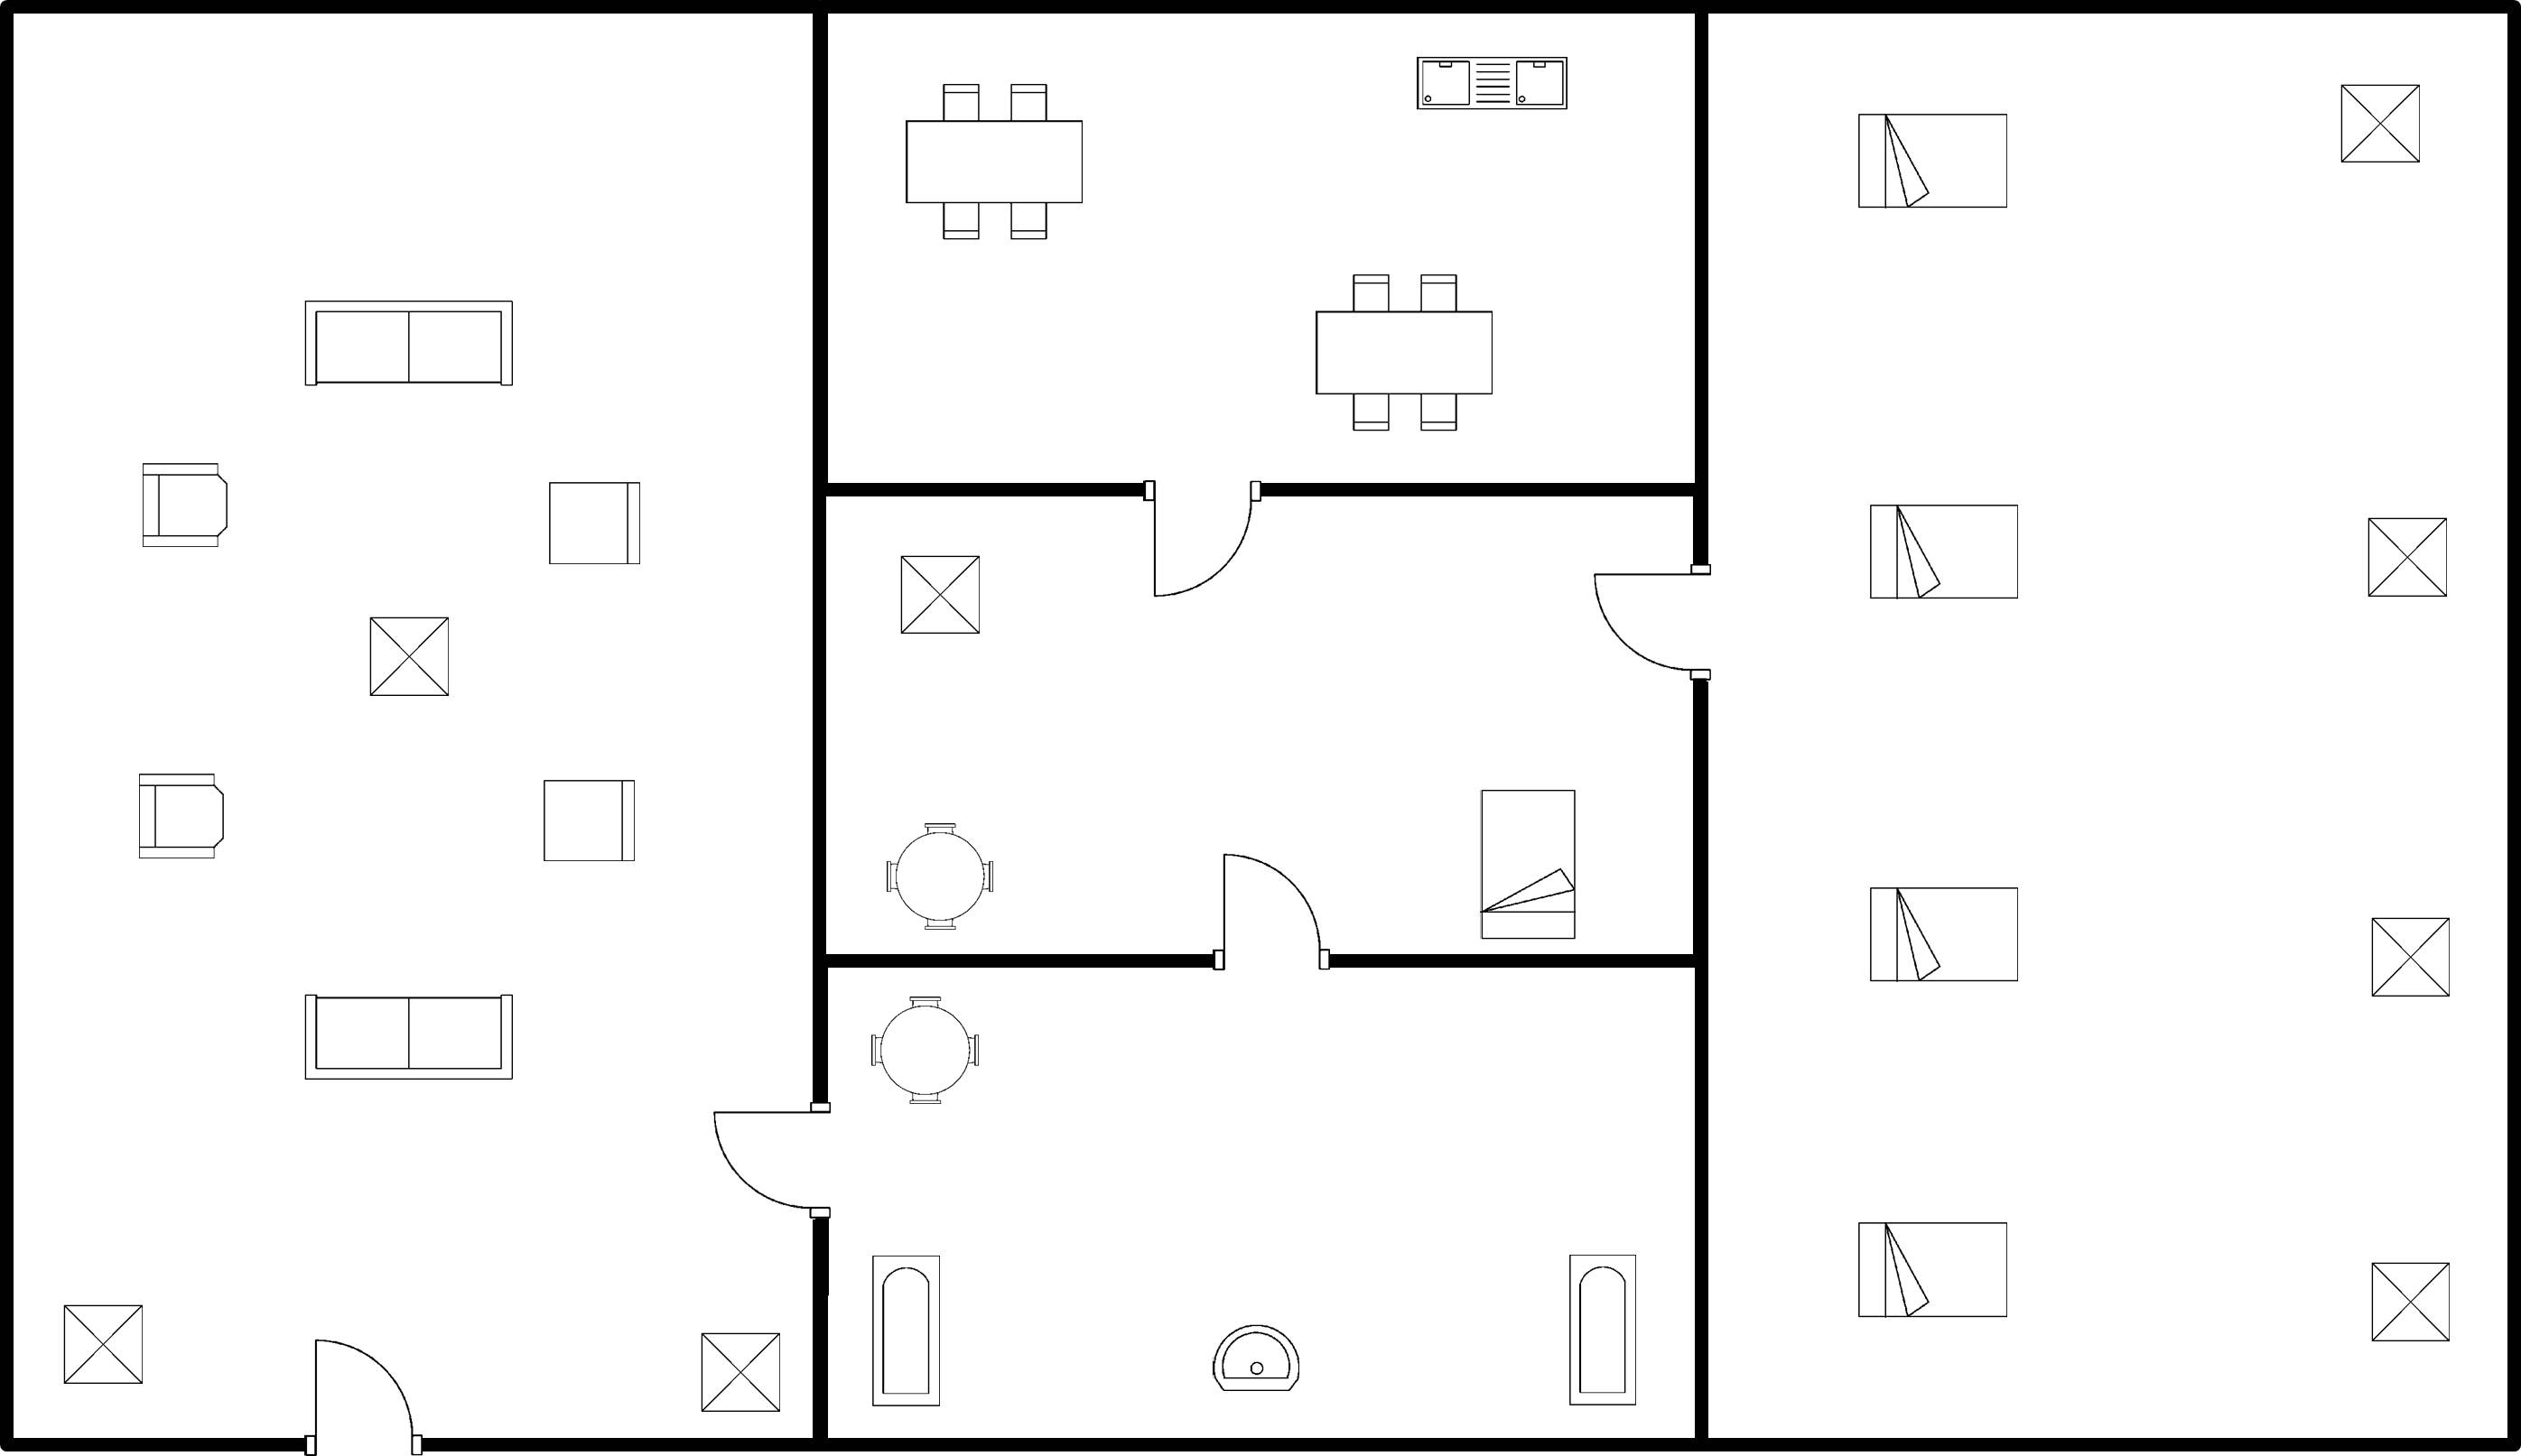armchair: (126, 446, 239, 558), (126, 760, 237, 872)
bed: (1856, 489, 2036, 610), (1845, 1210, 2020, 1334), (1464, 774, 1586, 951), (1850, 99, 2020, 222), (1856, 879, 2029, 997)
coffee_table: (355, 601, 465, 713), (886, 543, 998, 648), (2330, 69, 2435, 177), (2358, 1247, 2464, 1356), (2354, 504, 2459, 612), (689, 1318, 790, 1424), (2359, 904, 2461, 1015), (53, 1291, 154, 1397)
dining_table: (886, 70, 1108, 253), (1303, 262, 1502, 444)
large_sofa: (290, 287, 526, 401), (293, 980, 523, 1092)
round_table: (851, 984, 1003, 1123), (868, 814, 1010, 941)
small_sink: (1202, 1309, 1310, 1403)
small_sofa: (528, 773, 653, 883), (535, 471, 647, 580)
tub: (1552, 1240, 1653, 1424), (857, 1244, 956, 1423)
twin_sink: (1408, 43, 1588, 125)
